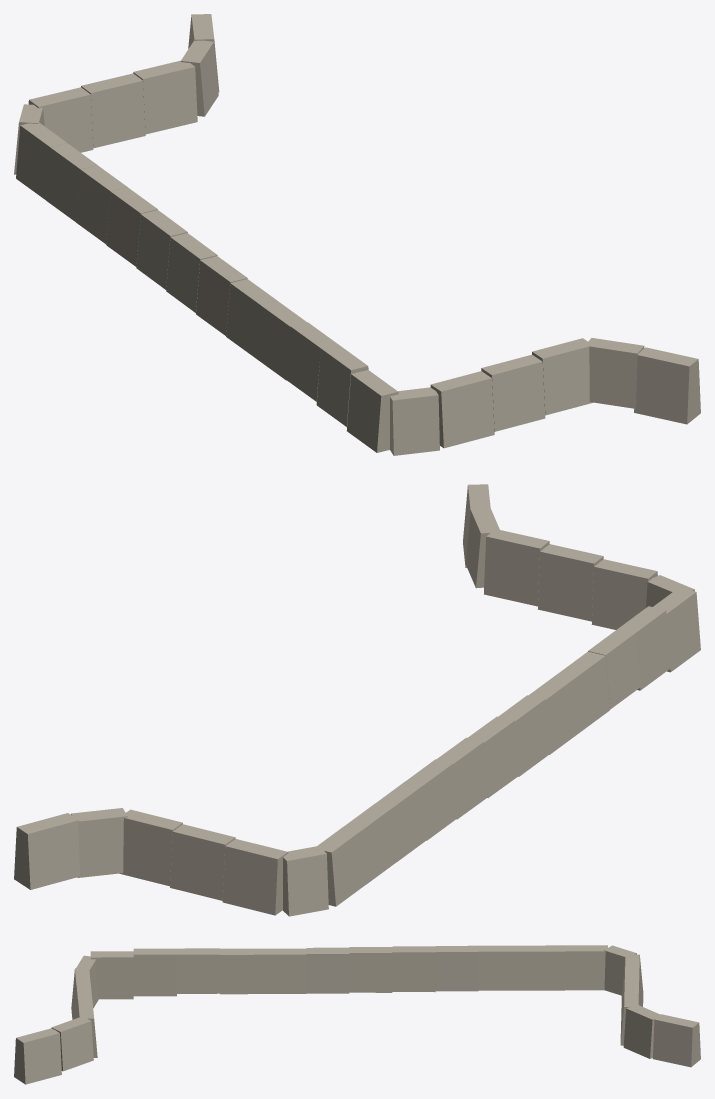
Rendered from bormla_65_29_mid.glb.
3 views of the same model, one above another, from view 1: azimuth 30°, elevation 25°; view 2: azimuth 150°, elevation 25°; view 3: azimuth 270°, elevation 25° (orthographic). The views are drawn at different scales.
Parts seen in each view (by area): view 1: geometry_0; view 2: geometry_0; view 3: geometry_0.
Boxes of the visible parts, left/top/right/bottom form: geometry_0: left=14, top=14, right=700, bottom=455; geometry_0: left=14, top=484, right=700, bottom=916; geometry_0: left=14, top=945, right=700, bottom=1084.
Bounding box in the file's own units: 64.89 × 15.73 × 191.
